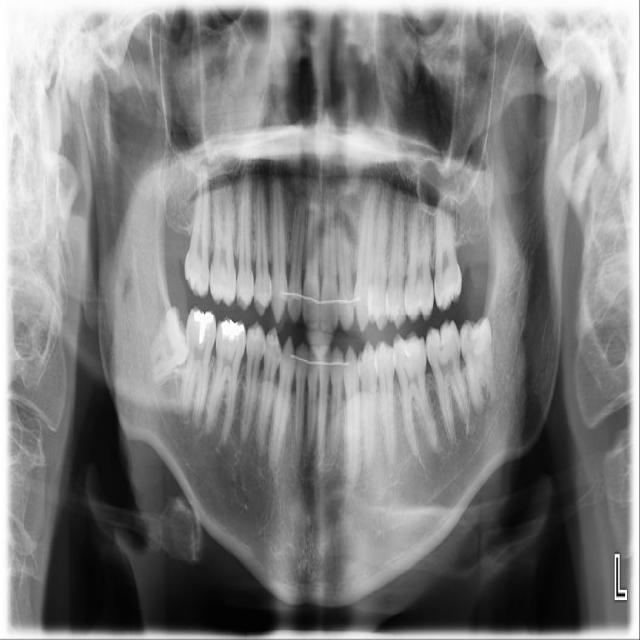Filling: (192, 308, 217, 346), (396, 335, 422, 360), (220, 318, 245, 343)
Periapical lesion: (215, 437, 239, 465), (457, 413, 478, 436)
impacted tooth: (146, 307, 190, 386), (460, 318, 494, 418)
